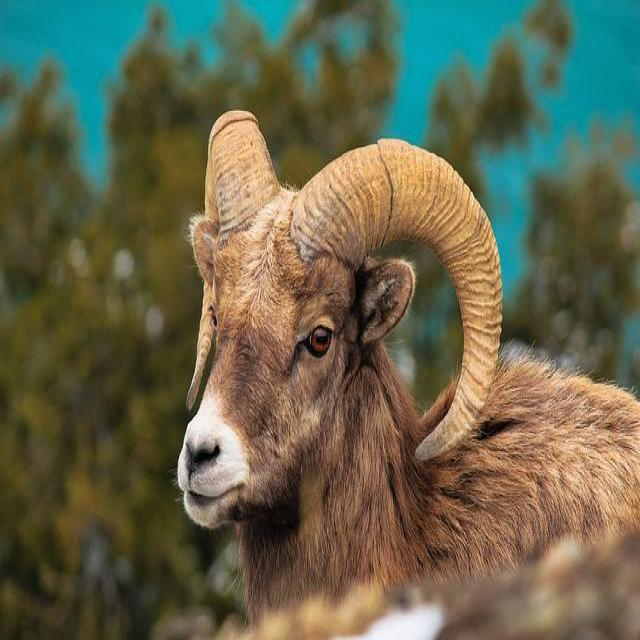Sheep: (176, 106, 639, 619)
